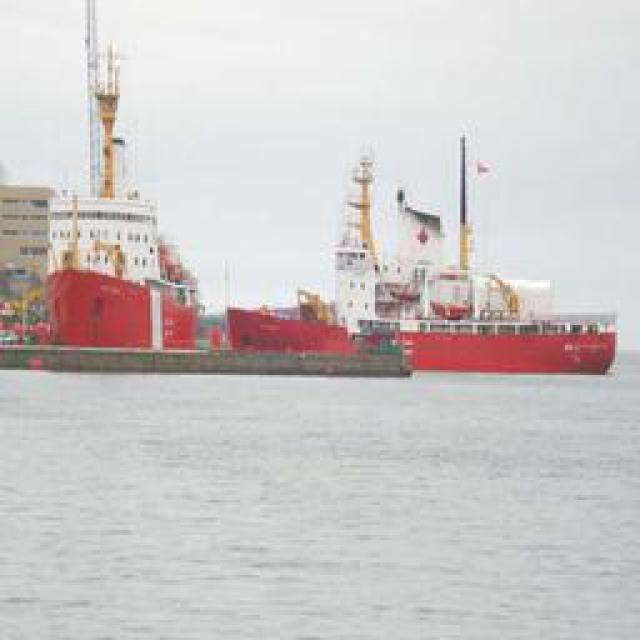Ship: (218, 129, 619, 372), (40, 238, 206, 362)
